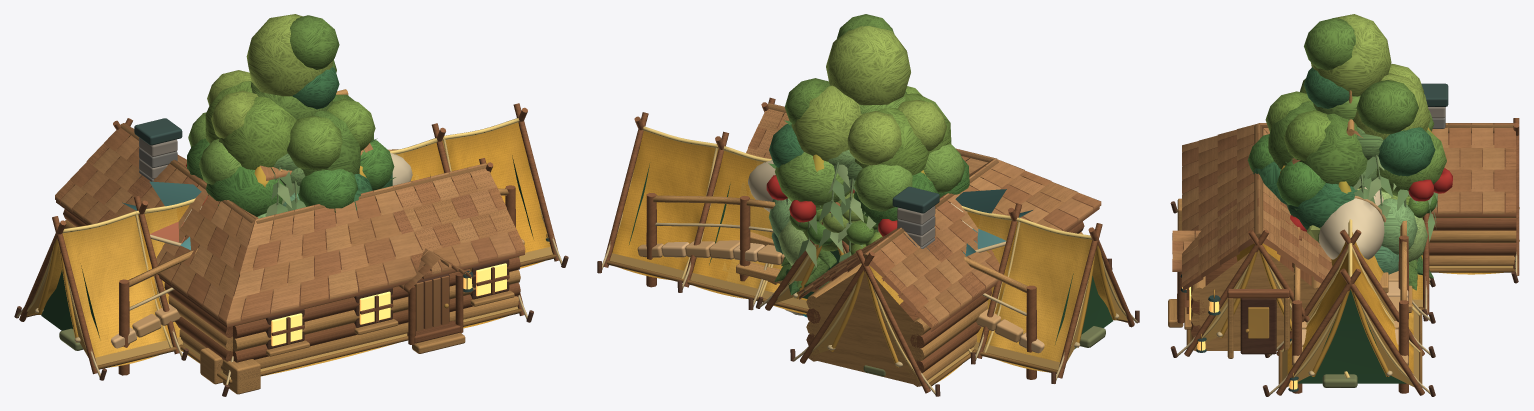
File: campsite.glb
3 renders of one model, left to right at view 1: azimuth 30°, elevation 25°; view 2: azimuth 150°, elevation 25°; view 3: azimuth 270°, elevation 25°, orthographic. The views are drawn at different scales.
Parts seen in each view (by area): view 1: cabin_el, camp_long, pear_tree, apple_tree, camp_domino, footbridge, camp_el, airship_domino, willow; view 2: cabin_el, camp_long, pear_tree, apple_tree, camp_domino, footbridge, camp_el, willow, airship_domino, camp_single, round_grove, forest_3 (+4 smaller); view 3: cabin_el, pear_tree, camp_long, apple_tree, camp_el, footbridge, airship_domino, camp_domino, round_grove, willow, camp_single, forest_1.
Part boxes in pixels (x1=…): cabin_el: x1=55, y1=118, x2=525, y2=394; camp_long: x1=14, y1=103, x2=568, y2=380; pear_tree: x1=205, y1=14, x2=377, y2=187; apple_tree: x1=186, y1=66, x2=395, y2=217; camp_domino: x1=133, y1=123, x2=450, y2=360; footbridge: x1=111, y1=149, x2=524, y2=375; camp_el: x1=113, y1=118, x2=533, y2=396; airship_domino: x1=122, y1=152, x2=412, y2=250; willow: x1=265, y1=153, x2=305, y2=216; cabin_el: x1=746, y1=103, x2=1101, y2=386; camp_long: x1=597, y1=112, x2=1139, y2=383; pear_tree: x1=784, y1=14, x2=951, y2=180; apple_tree: x1=766, y1=91, x2=969, y2=236; camp_domino: x1=677, y1=131, x2=1021, y2=364; footbridge: x1=637, y1=193, x2=1044, y2=379; camp_el: x1=761, y1=97, x2=1112, y2=396; willow: x1=786, y1=150, x2=878, y2=267; airship_domino: x1=748, y1=160, x2=1032, y2=256; camp_single: x1=756, y1=202, x2=849, y2=310; round_grove: x1=769, y1=198, x2=821, y2=265; forest_3: x1=819, y1=193, x2=882, y2=255; cabin_el: x1=1168, y1=83, x2=1516, y2=358; pear_tree: x1=1265, y1=14, x2=1434, y2=193; camp_long: x1=1263, y1=219, x2=1435, y2=396; apple_tree: x1=1247, y1=67, x2=1452, y2=231; camp_el: x1=1170, y1=118, x2=1519, y2=357; footbridge: x1=1292, y1=220, x2=1408, y2=393; airship_domino: x1=1319, y1=187, x2=1386, y2=259; camp_domino: x1=1264, y1=227, x2=1435, y2=357; round_grove: x1=1374, y1=191, x2=1427, y2=274; willow: x1=1286, y1=126, x2=1437, y2=241; camp_single: x1=1412, y1=213, x2=1430, y2=321; forest_1: x1=1391, y1=194, x2=1437, y2=218.
Size of the model in its own units: 2.87 by 1.76 by 1.91.
2 materials, 2 textured.
